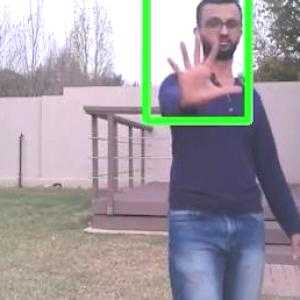follow_hand: (158, 21, 244, 109)
